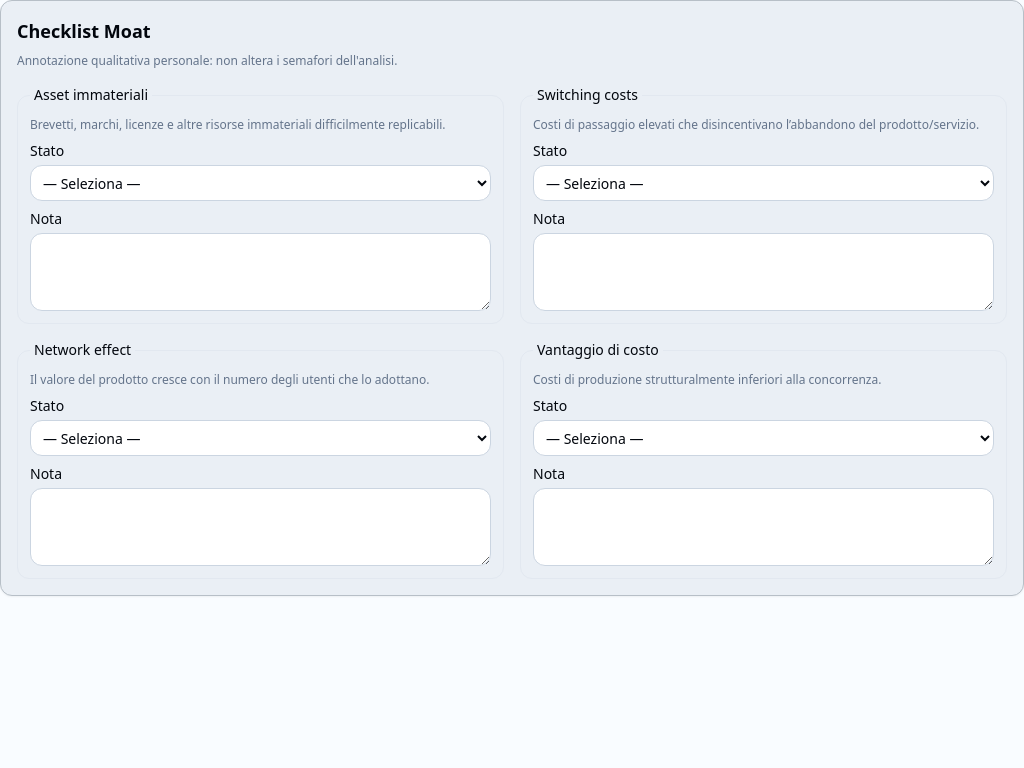
Test: MoatChecklist › displays user-safe message when persist fails (no raw axios error)
The width and height of the screenshot is (1024, 768).
Select "Presente" in the dropdown with test id "moat-status-COST_ADVANTAGE" at {"x": 764, "y": 438}, box [533,420,994,456]
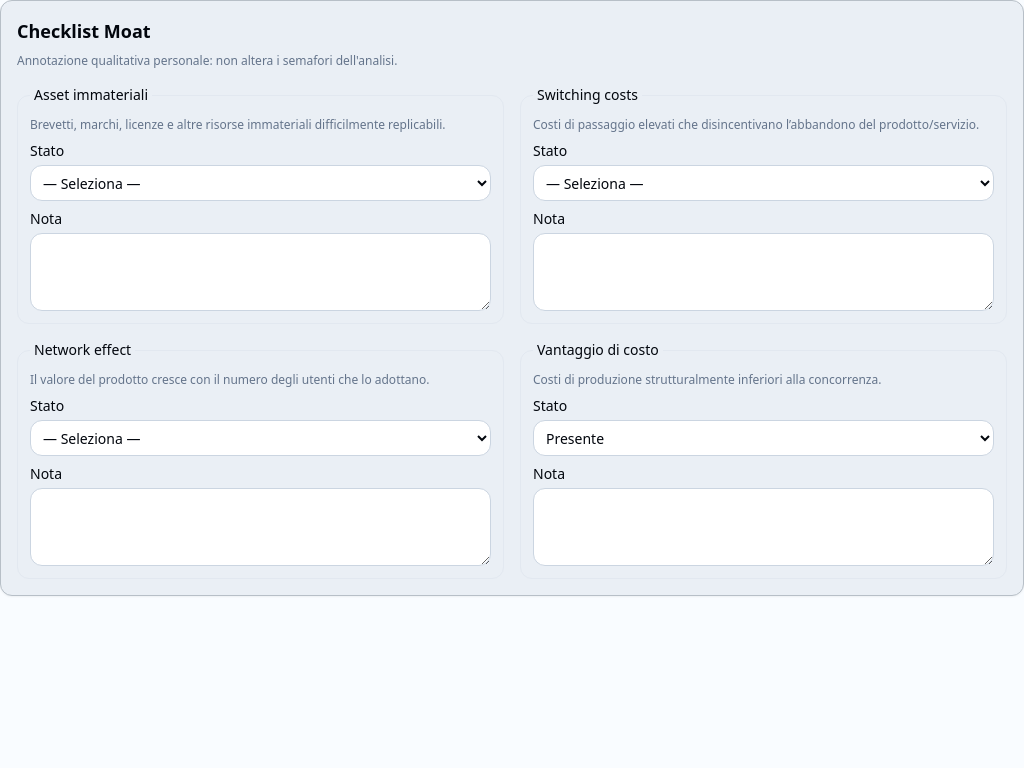
Leave the dropdown with test id "moat-status-COST_ADVANTAGE", box [533,420,994,456]
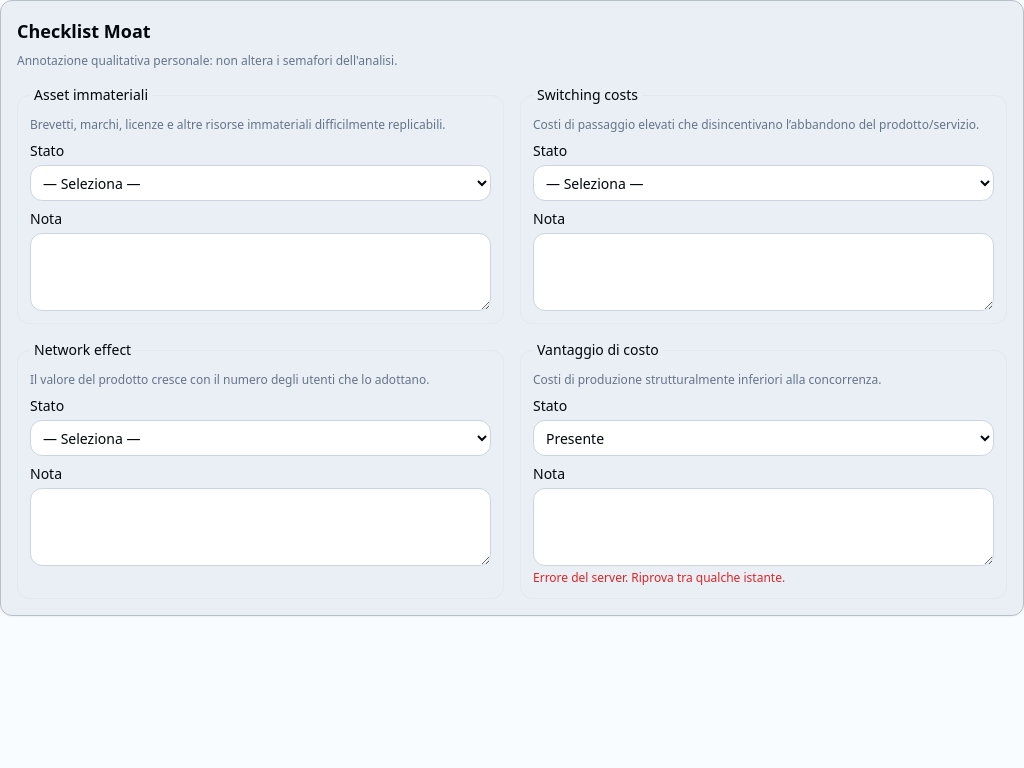
Result: the message reads "Errore del server. Riprova tra qualche istante." at [533,569,785,586]
